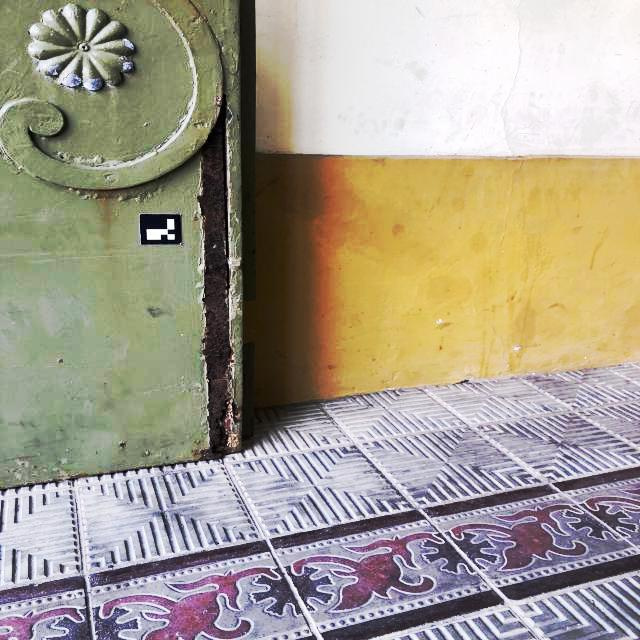Corrosion: (197, 103, 241, 461), (0, 472, 107, 489), (109, 465, 152, 473), (215, 78, 224, 106), (177, 459, 197, 463), (119, 442, 126, 448), (192, 451, 198, 456), (238, 263, 241, 270), (193, 216, 197, 220), (117, 8, 120, 10)
